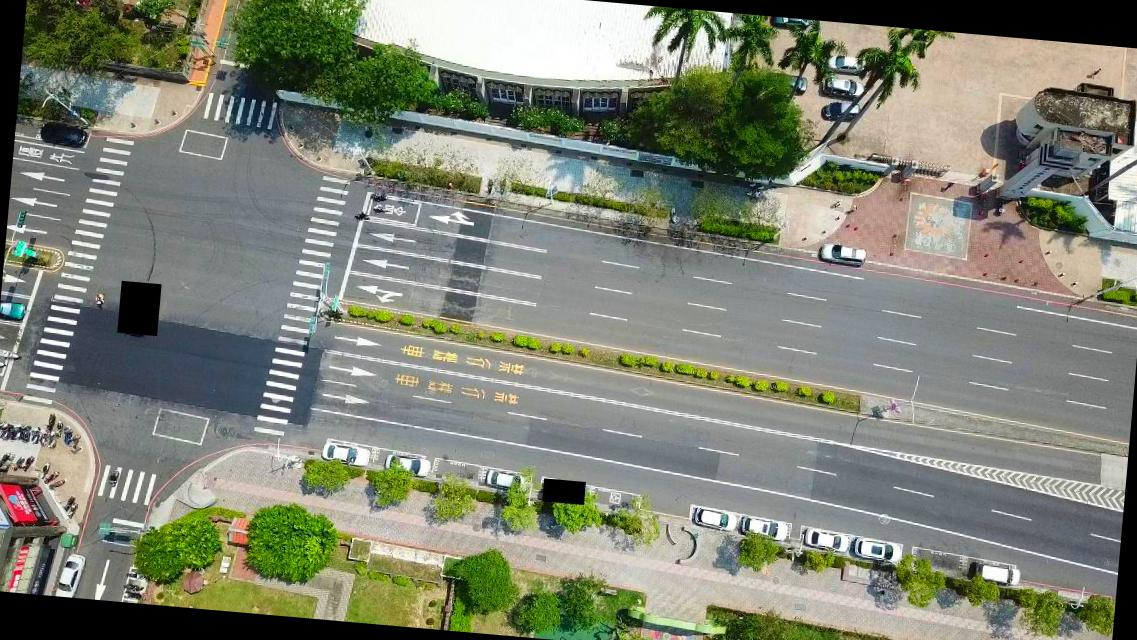vehicle: (55, 552, 85, 598), (818, 243, 867, 270), (36, 121, 88, 146), (851, 536, 897, 564), (970, 563, 1022, 587), (819, 79, 866, 103), (804, 530, 849, 554), (322, 443, 370, 465), (743, 518, 788, 541), (691, 507, 734, 531), (386, 454, 428, 476), (820, 100, 861, 122), (825, 54, 866, 74), (480, 471, 524, 489), (0, 298, 25, 325), (767, 17, 809, 32), (780, 72, 808, 94)
